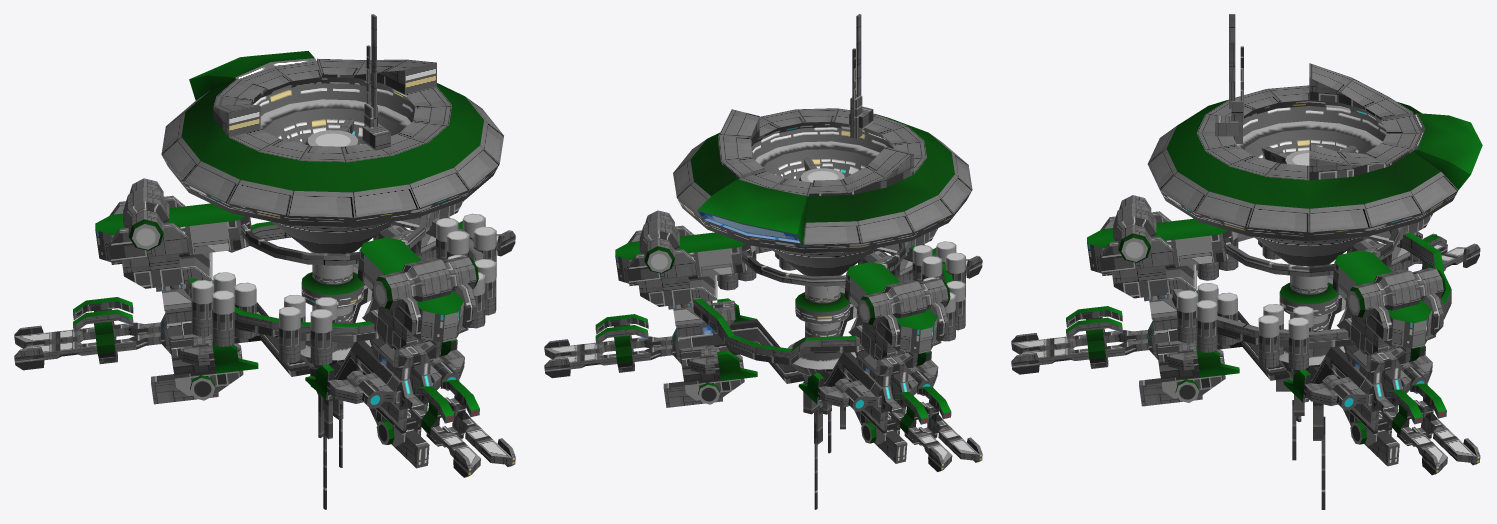
File: stationgreen.dae
3 views of the same model, side by side, from view 1: azimuth 30°, elevation 25°; view 2: azimuth 150°, elevation 25°; view 3: azimuth 270°, elevation 25° (orthographic). The views are drawn at different scales.
Parts seen in each view (by area): view 1: SpaceStation4; view 2: SpaceStation4; view 3: SpaceStation4.
Boxes of the visible parts, left/top/right/bottom form: SpaceStation4: left=14, top=14, right=515, bottom=509; SpaceStation4: left=544, top=14, right=982, bottom=509; SpaceStation4: left=1011, top=14, right=1482, bottom=509.
Bounding box in the file's own units: 268 × 233 × 270.
2 materials, 1 textured.
